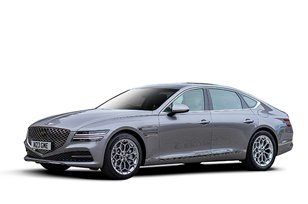mobil: (24, 81, 294, 179)
